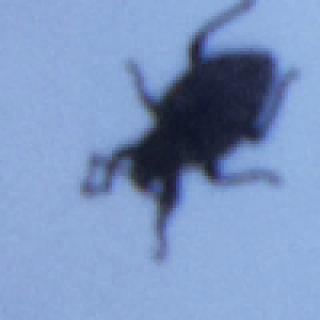bvw: (79, 2, 301, 266)
